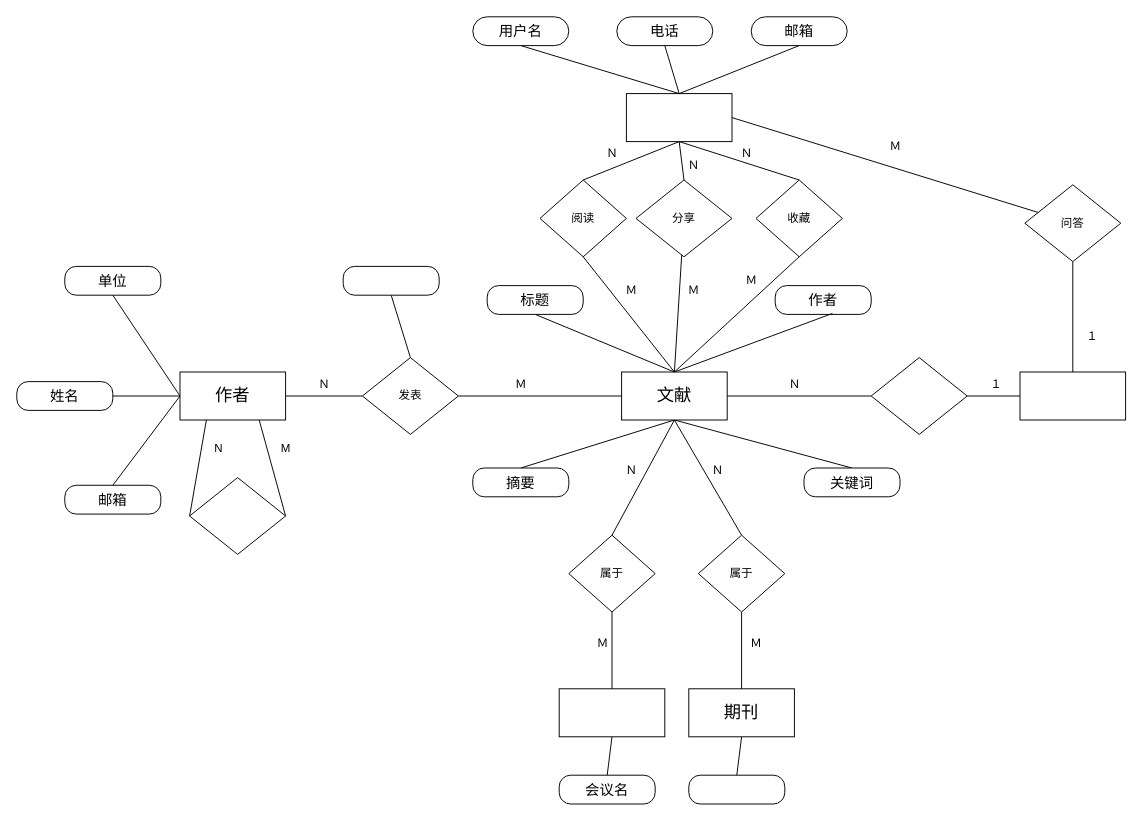
This 1142x821 diagram has some shape labels left out. The shapes that lost their labels are listed below. From the top down, each one's box as (x1, y1, x2, y2) in pixels, then its label:
(625, 93, 732, 142): 用户
(342, 265, 439, 295): 发表日期
(870, 357, 967, 434): 理解
(1019, 371, 1126, 420): 问答机器人
(189, 477, 286, 554): 合作
(558, 688, 665, 737): 会议
(688, 774, 785, 804): 期刊名
